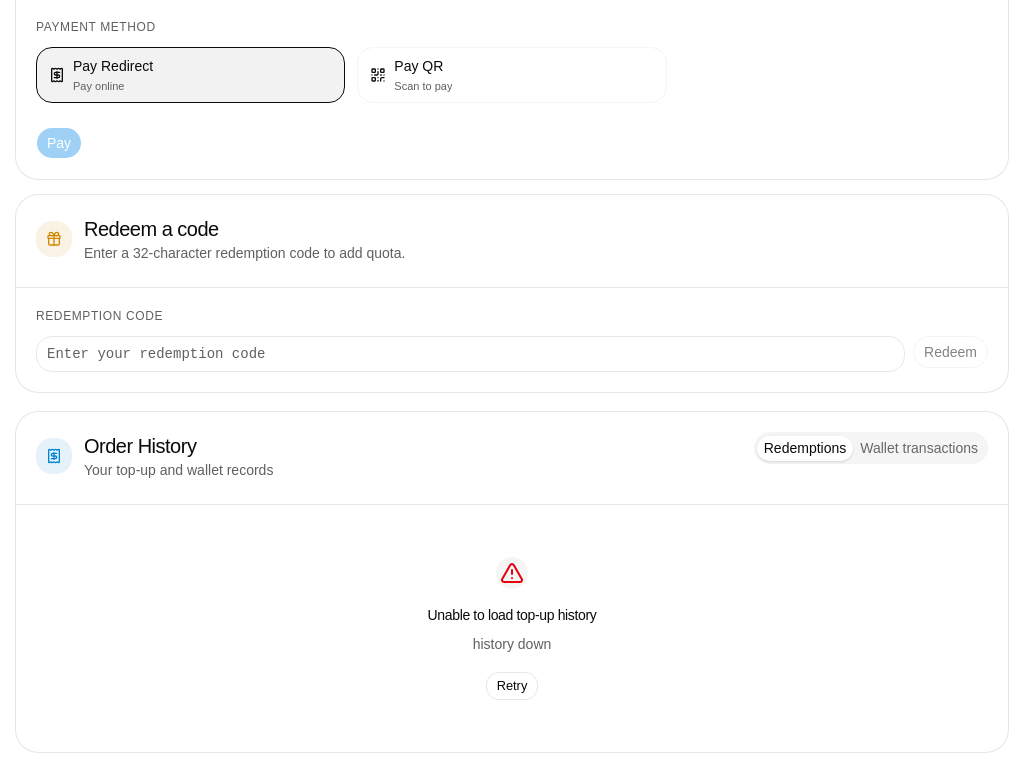
Scenario: history › shows the failure and recovers on retry
The image size is (1024, 768).
(page scrolled)
Expected: the text "history down" is shown, [473, 633, 551, 656]
Click the button "Retry" at (512, 686), box [486, 672, 538, 700]
(page scrolled)
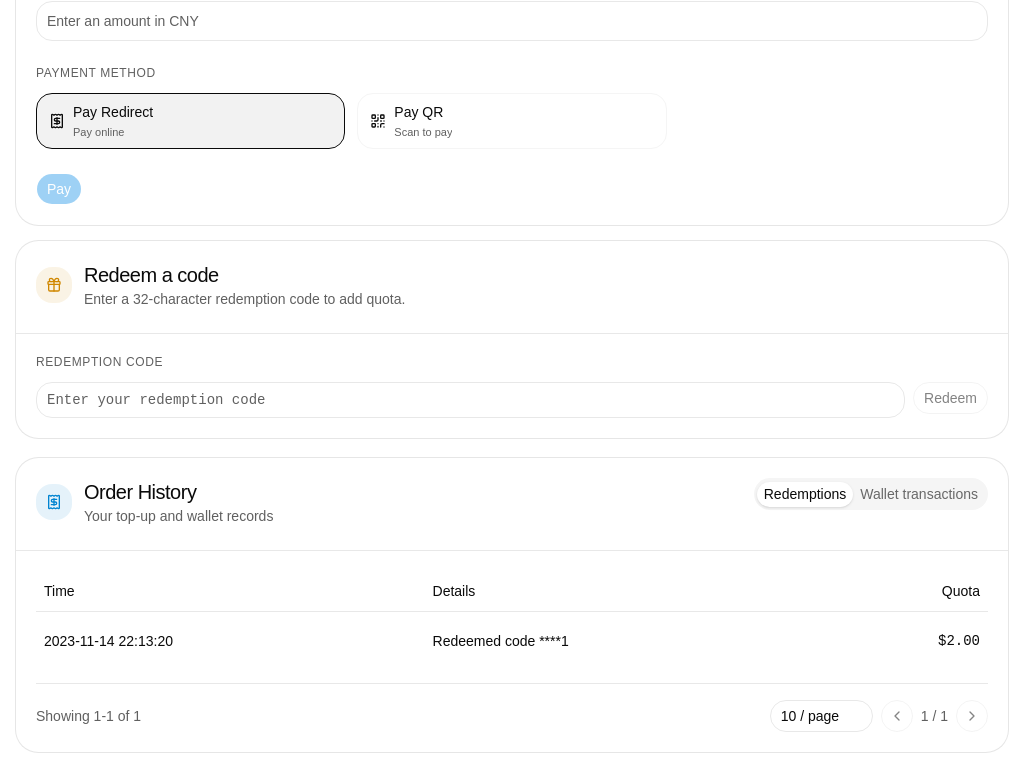
Expected: the text "Redeemed code ****1" is shown, [424, 611, 832, 671]
